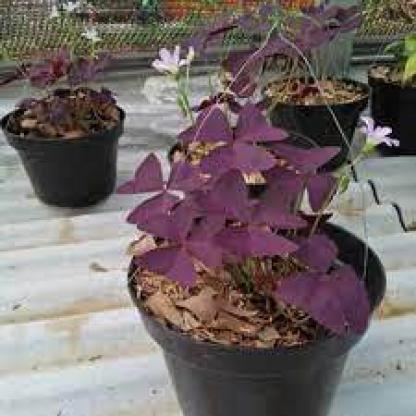Kupu-Kupu: (188, 110, 354, 208), (153, 184, 245, 286), (295, 236, 367, 334), (205, 7, 349, 47), (1, 55, 108, 88)
